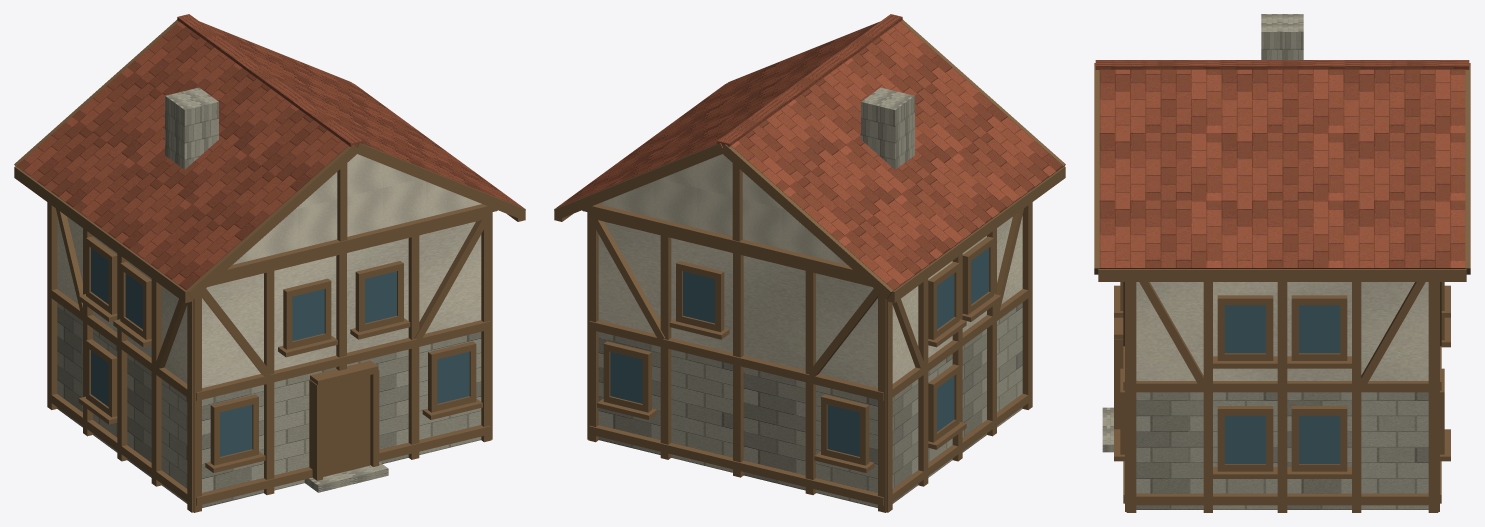
3 views of the same model, side by side, from view 1: azimuth 30°, elevation 25°; view 2: azimuth 150°, elevation 25°; view 3: azimuth 270°, elevation 25° (orthographic). The views are drawn at different scales.
Parts seen in each view (by area): view 1: house-wood, house-roof, house-plaster, house-stone; view 2: house-wood, house-roof, house-plaster, house-stone; view 3: house-roof, house-wood, house-stone, house-plaster.
Part boxes in pixels (bbox=[...]): house-wood: bbox=[14, 19, 525, 512]; house-roof: bbox=[16, 14, 523, 290]; house-plaster: bbox=[57, 154, 481, 387]; house-stone: bbox=[57, 87, 481, 507]; house-wood: bbox=[554, 19, 1065, 512]; house-roof: bbox=[556, 14, 1063, 290]; house-plaster: bbox=[598, 154, 1022, 387]; house-stone: bbox=[598, 87, 1022, 507]; house-roof: bbox=[1095, 60, 1469, 268]; house-wood: bbox=[1094, 63, 1470, 512]; house-stone: bbox=[1102, 14, 1428, 509]; house-plaster: bbox=[1136, 282, 1428, 380].
Size of the model in its own units: 7.98 by 7.72 by 7.1.
Materials: 4 (3 with a texture image).
